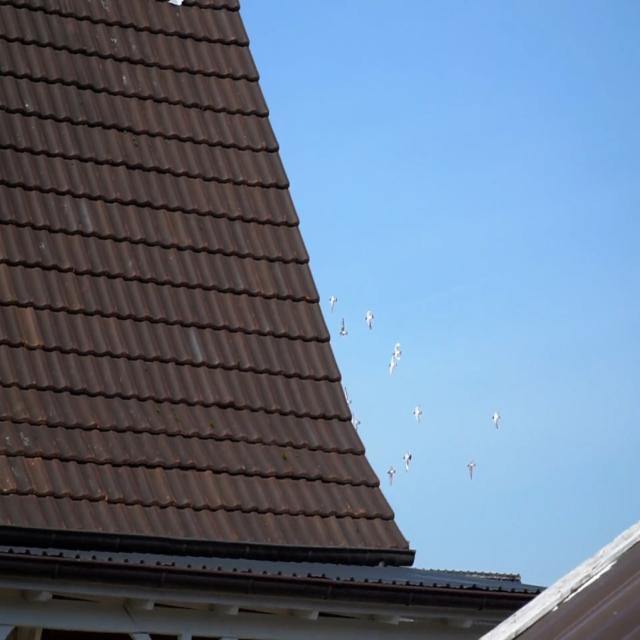bird: (392, 341, 404, 364), (466, 458, 477, 482), (364, 308, 375, 331), (338, 316, 349, 338), (387, 464, 398, 486), (491, 408, 502, 428), (350, 412, 361, 432), (403, 452, 414, 472), (412, 402, 422, 422), (387, 355, 396, 377), (344, 384, 352, 408), (329, 295, 338, 314)
